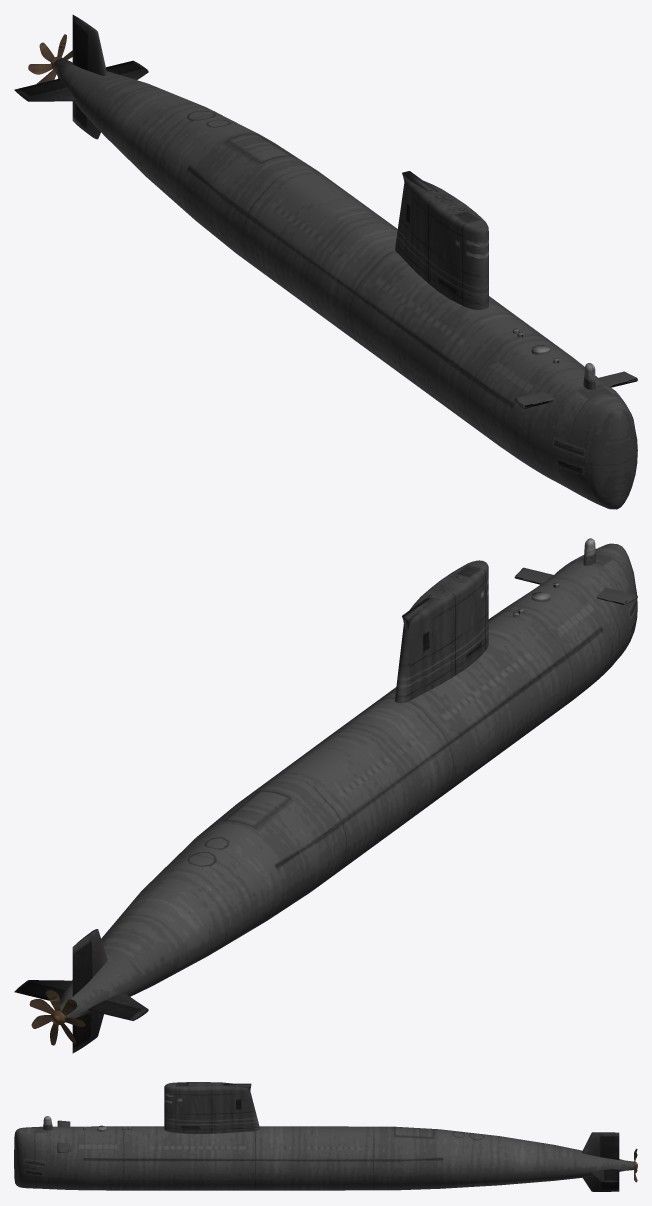
File: submarine.dae
The picture shows the model from 3 angles, top to bottom: view 1: azimuth 30°, elevation 25°; view 2: azimuth 150°, elevation 25°; view 3: azimuth 270°, elevation 25°; orthographic projection. The views are drawn at different scales.
Parts seen in each view (by area): view 1: DrawCall_0009, DrawCall_0010 (×4); view 2: DrawCall_0009, DrawCall_0010 (×4); view 3: DrawCall_0009, DrawCall_0010 (×4).
Part boxes in pixels (x1=…): DrawCall_0009: x1=54, y1=62, x2=637, y2=509; DrawCall_0010 (×4): x1=14, y1=15, x2=637, y2=408; DrawCall_0009: x1=60, y1=543, x2=637, y2=1018; DrawCall_0010 (×4): x1=14, y1=560, x2=637, y2=1053; DrawCall_0009: x1=14, y1=1126, x2=630, y2=1190; DrawCall_0010 (×4): x1=57, y1=1082, x2=619, y2=1191.
Size of the model in its own units: 8.14 by 66.83 by 12.61.
